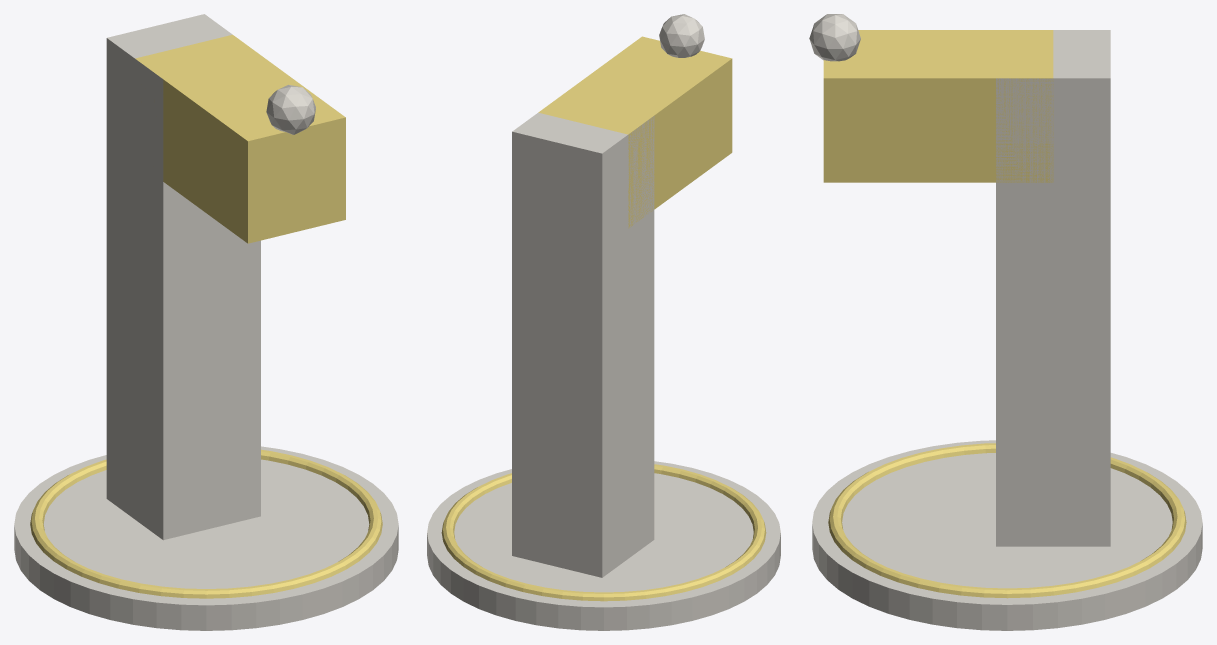
The model's file is ArteModerno_Caballo.fbx.
The picture shows the model from 3 angles, left to right: view 1: azimuth 30°, elevation 25°; view 2: azimuth 150°, elevation 25°; view 3: azimuth 270°, elevation 25°; orthographic projection. The views are drawn at different scales.
Visible parts, largest first — view 1: ArteModerno_Caballo; view 2: ArteModerno_Caballo; view 3: ArteModerno_Caballo.
Boxes of the visible parts, left/top/right/bottom form: ArteModerno_Caballo: left=14, top=14, right=398, bottom=630; ArteModerno_Caballo: left=427, top=14, right=780, bottom=630; ArteModerno_Caballo: left=809, top=14, right=1202, bottom=630.
Size of the model in its own units: 0.68 by 1.02 by 0.685.
